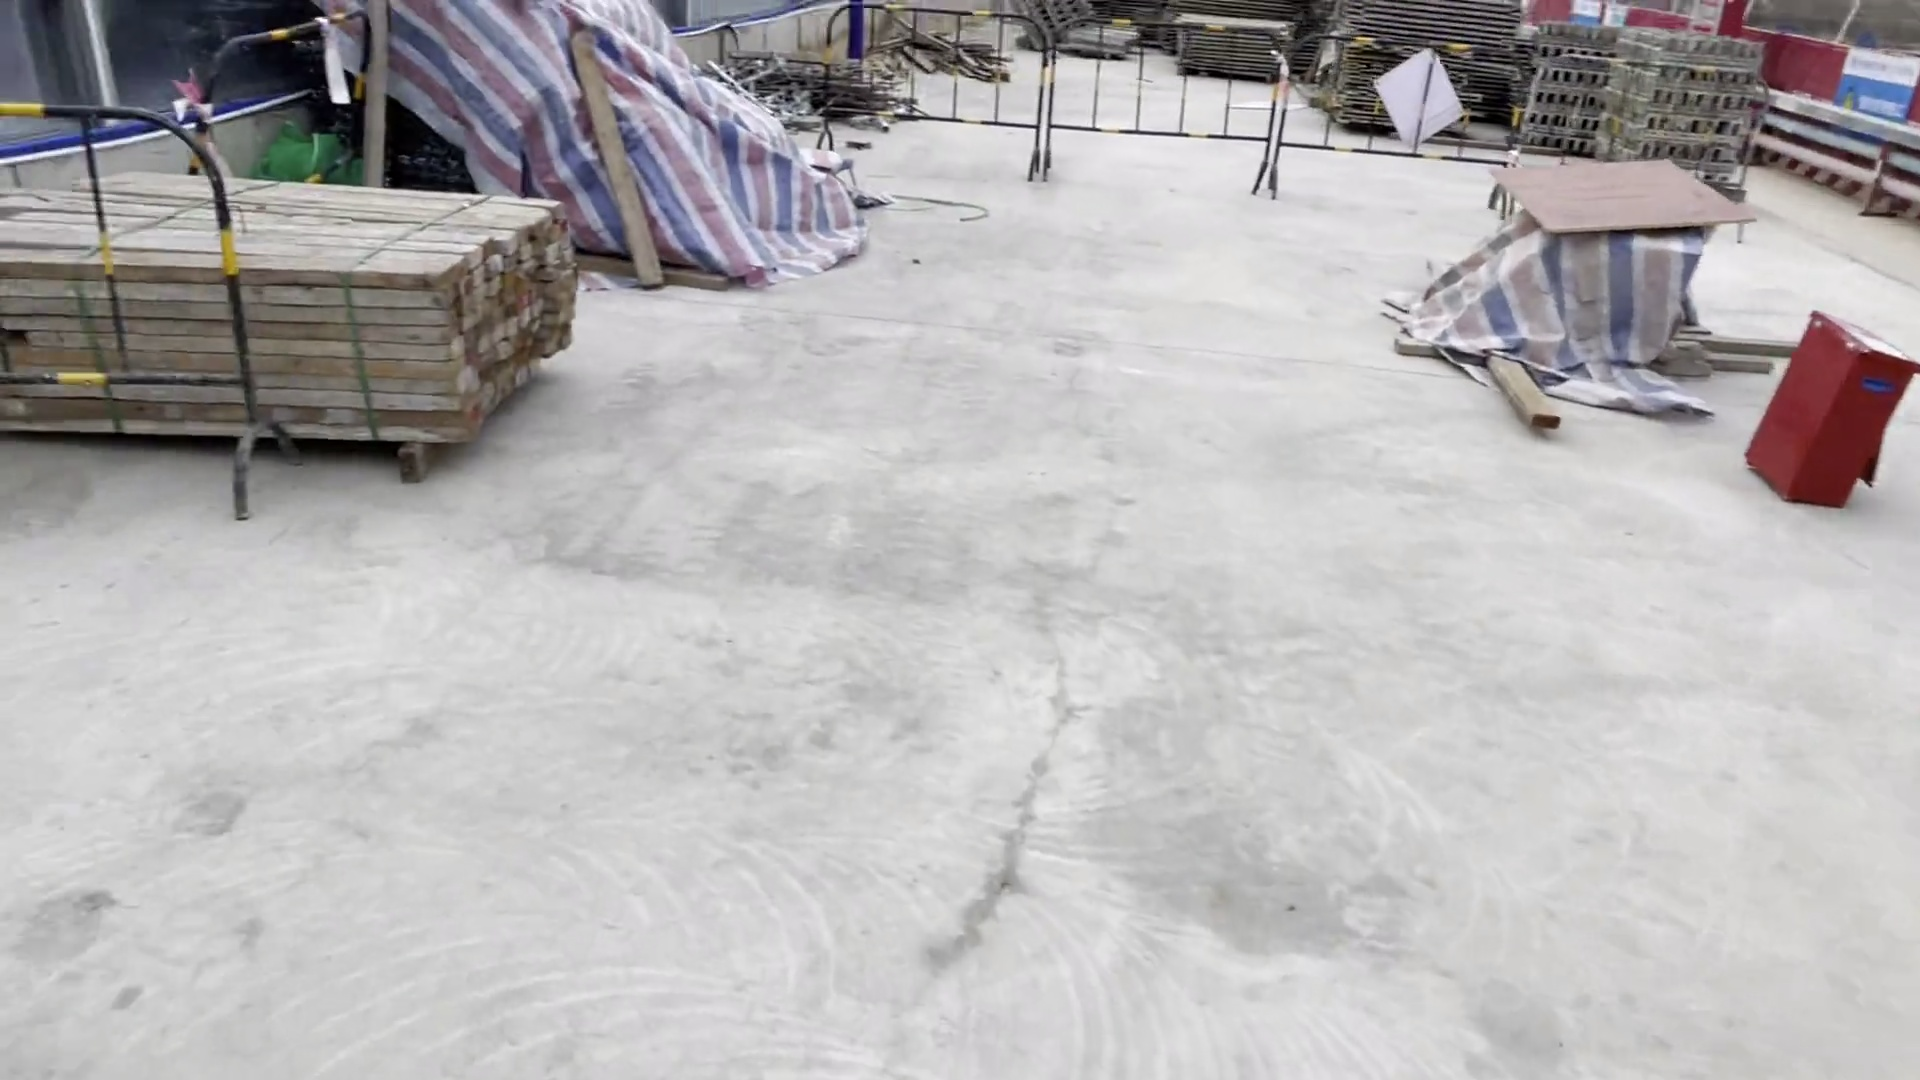fence: (822, 5, 1768, 241), (1, 105, 301, 535)
wood: (1, 166, 580, 444)
